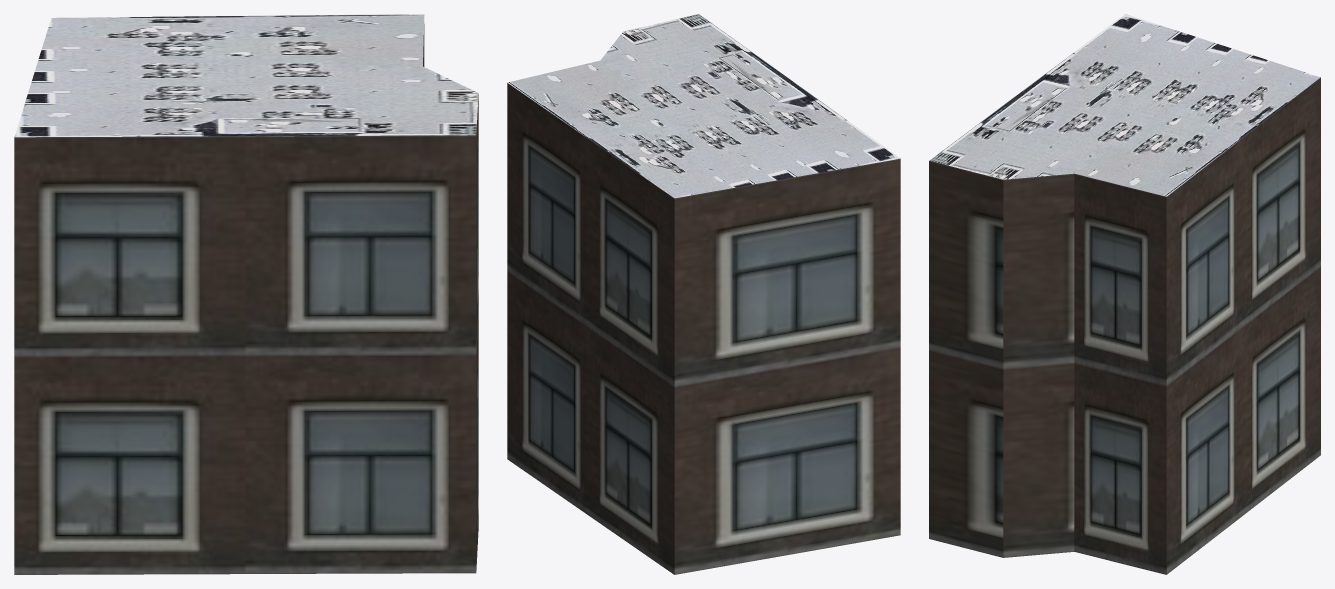
The model's file is ResTex__3370.fbx.
3 views of the same model, side by side, from view 1: azimuth 30°, elevation 25°; view 2: azimuth 150°, elevation 25°; view 3: azimuth 270°, elevation 25° (orthographic). The views are drawn at different scales.
Parts seen in each view (by area): view 1: CityEngineMaterial_16_m, CityEngineMaterial_15_m; view 2: CityEngineMaterial_16_m, CityEngineMaterial_15_m; view 3: CityEngineMaterial_16_m, CityEngineMaterial_15_m.
Boxes of the visible parts, x1,y1,x2,y2 form: CityEngineMaterial_16_m: [14, 24, 478, 574]; CityEngineMaterial_15_m: [14, 14, 478, 137]; CityEngineMaterial_16_m: [507, 83, 900, 574]; CityEngineMaterial_15_m: [507, 14, 900, 198]; CityEngineMaterial_16_m: [929, 77, 1320, 574]; CityEngineMaterial_15_m: [929, 14, 1320, 196].
Bounding box in the file's own units: 6.22 × 6 × 5.63.
Materials: 2 (2 with a texture image).
